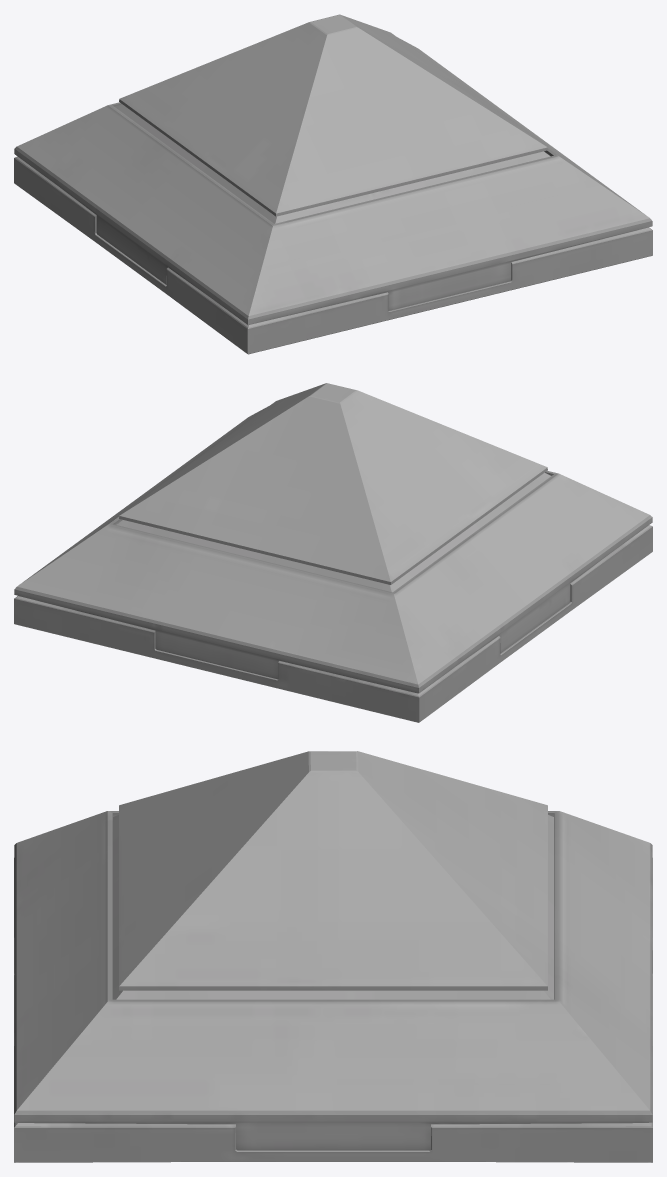
Rendered from SM_PyramidRoof_SF_72c2af.glb.
3 views of the same model, one above another, from view 1: azimuth 30°, elevation 25°; view 2: azimuth 150°, elevation 25°; view 3: azimuth 270°, elevation 25° (orthographic). The views are drawn at different scales.
Size of the model in its own units: 4.01 by 1.85 by 4.
Materials: 1 (1 with a texture image).
